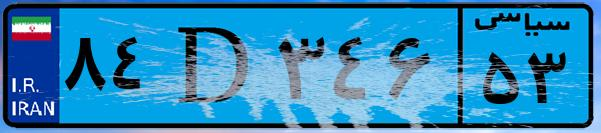3: (270, 28, 330, 110), (525, 38, 570, 115)
4: (330, 28, 385, 110), (110, 28, 158, 98)
5: (475, 38, 525, 113)
6: (385, 28, 445, 110)
8: (57, 26, 110, 100)
D: (158, 12, 270, 120)
